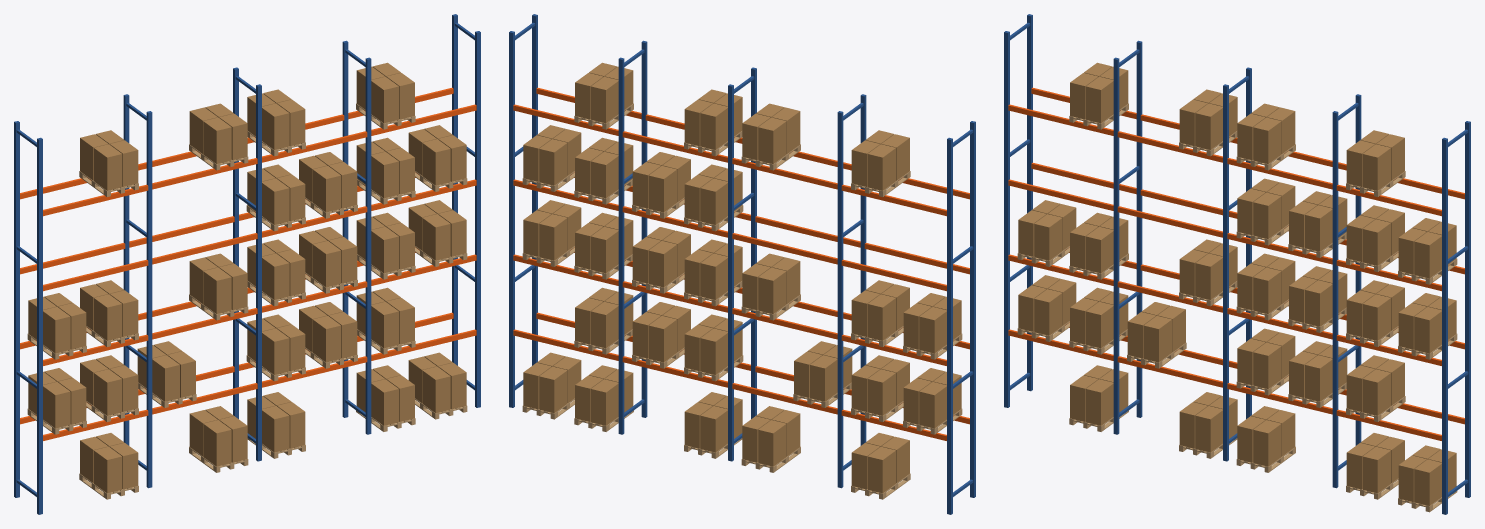
Rendered from ind-014.glb.
3 renders of one model, left to right at view 1: azimuth 30°, elevation 25°; view 2: azimuth 150°, elevation 25°; view 3: azimuth 330°, elevation 25°, orthographic.
Visible parts, largest first — view 1: cardboard, frame_blue, rim_orange, oak; view 2: cardboard, frame_blue, rim_orange, oak; view 3: cardboard, frame_blue, rim_orange, oak.
Boxes of the visible parts, x1,y1,x2,y2 form: cardboard: (28, 62, 466, 493); frame_blue: (14, 14, 480, 514); rim_orange: (20, 87, 476, 440); oak: (27, 103, 467, 499); cardboard: (523, 62, 961, 493); frame_blue: (509, 14, 975, 514); rim_orange: (513, 87, 969, 440); oak: (522, 103, 962, 499); cardboard: (1018, 62, 1456, 505); frame_blue: (1004, 14, 1470, 514); rim_orange: (1008, 87, 1464, 440); oak: (1017, 103, 1457, 512).
Size of the model in its own units: 11.1 by 9 by 1.2.
